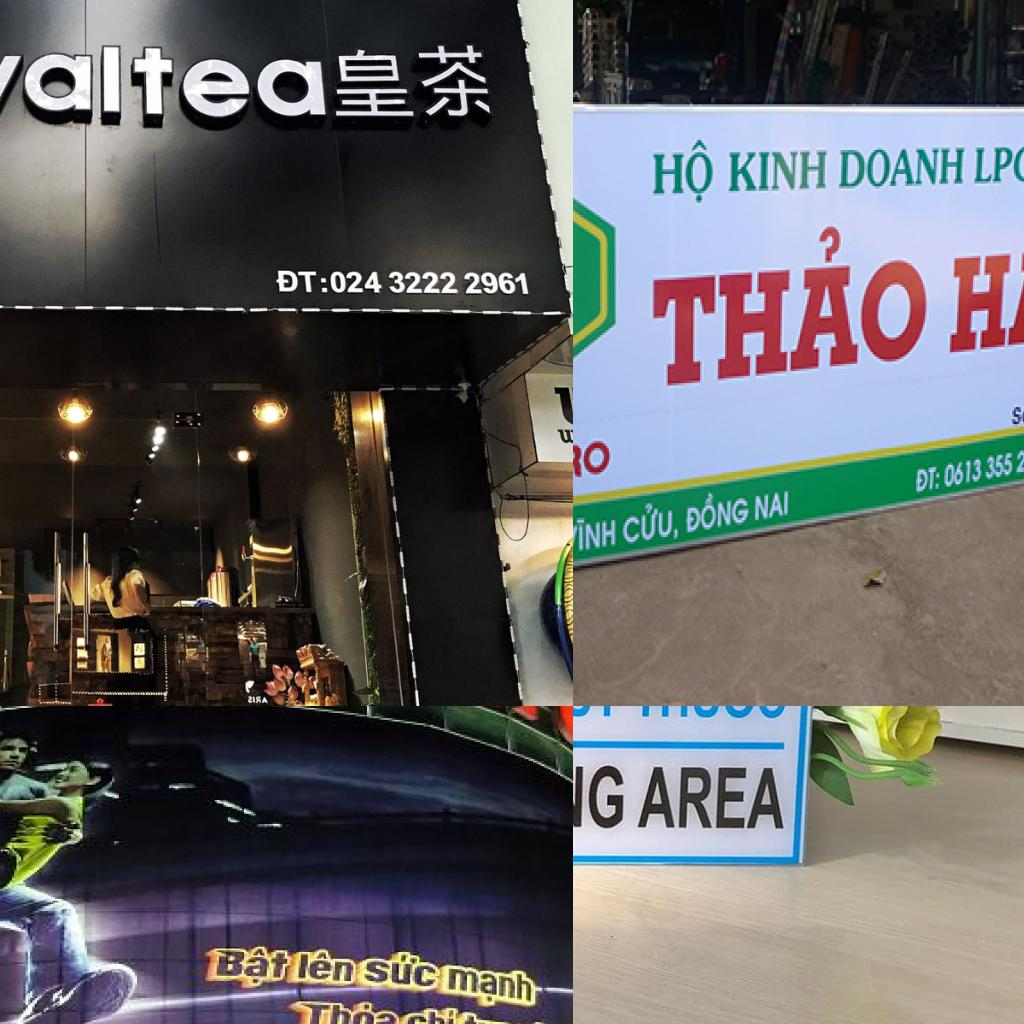text: (650, 217, 934, 395), (194, 706, 573, 771), (124, 46, 328, 126), (946, 238, 1024, 378), (0, 44, 124, 132), (330, 266, 534, 299), (839, 145, 968, 193), (428, 964, 540, 1017), (650, 133, 718, 210), (727, 148, 830, 196), (203, 942, 294, 988), (942, 443, 1024, 491), (573, 762, 625, 832), (684, 486, 750, 540), (358, 950, 446, 990), (287, 994, 403, 1024), (622, 498, 680, 554), (292, 948, 360, 990), (632, 706, 789, 723), (973, 142, 1024, 188), (573, 436, 614, 493), (573, 513, 619, 558), (272, 268, 330, 296), (754, 486, 791, 528), (458, 1008, 533, 1024), (403, 1003, 460, 1024), (914, 462, 943, 498), (1008, 395, 1024, 428), (551, 424, 573, 444)
